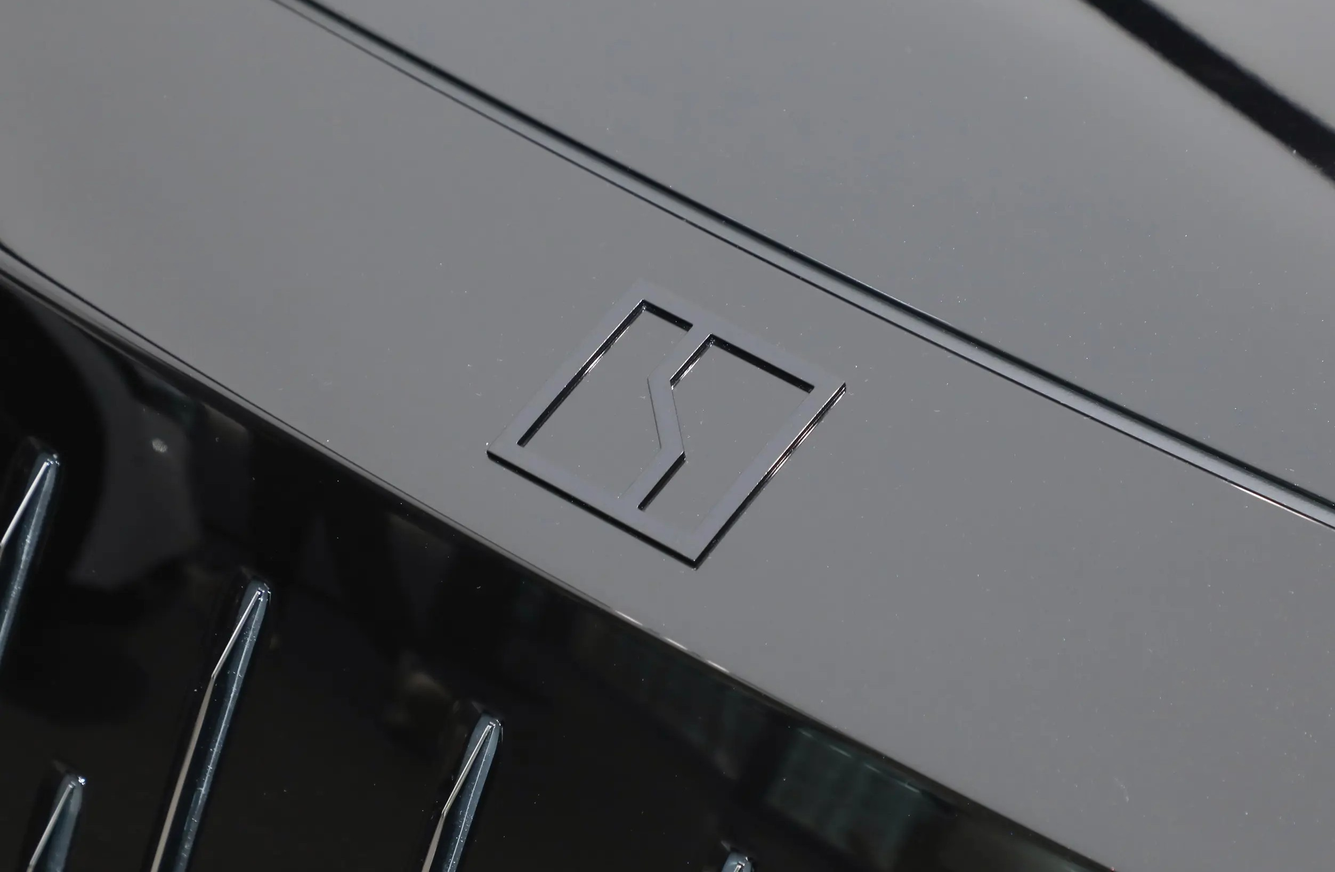ZEEKR: (487, 279, 844, 567)
